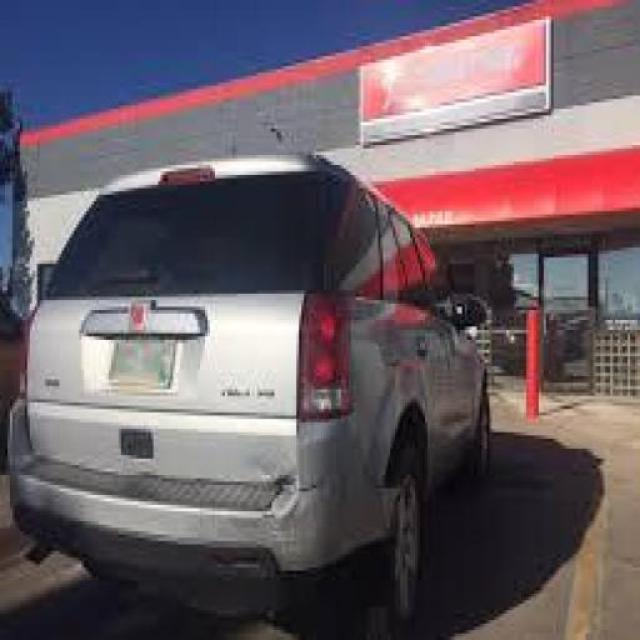dent: (255, 460, 340, 540)
